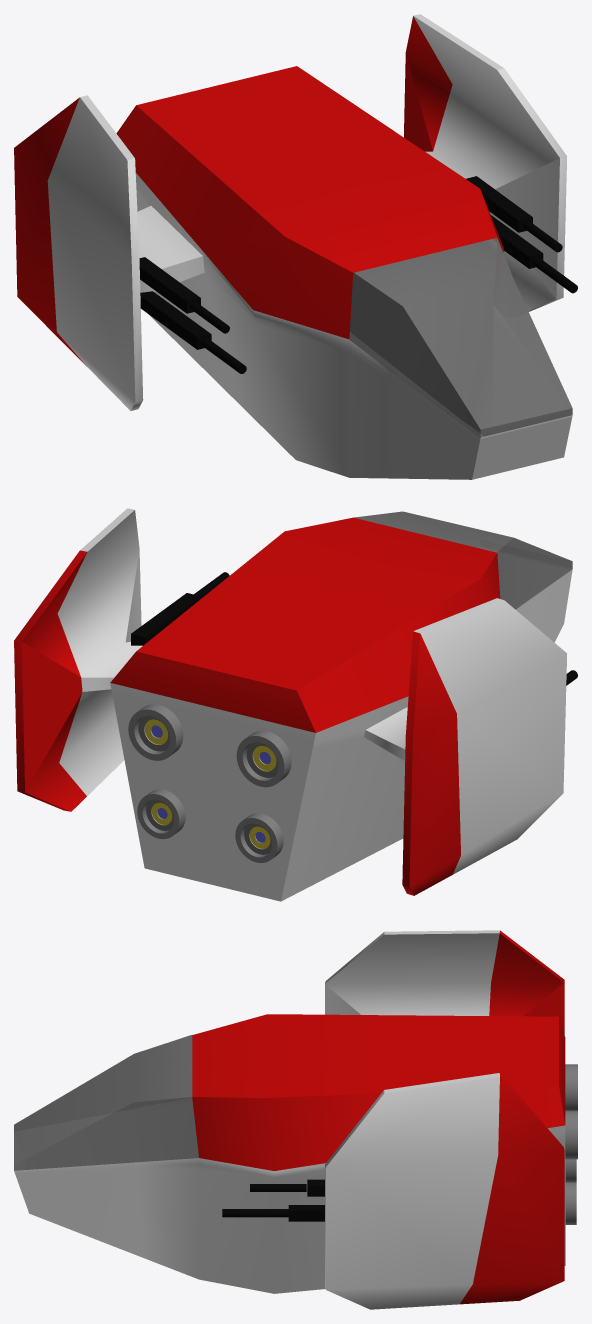
File: Low_Poly_EnemeyShip2.fbx
The picture shows the model from 3 angles, top to bottom: view 1: azimuth 30°, elevation 25°; view 2: azimuth 150°, elevation 25°; view 3: azimuth 270°, elevation 25°; orthographic projection. The views are drawn at different scales.
Parts seen in each view (by area): view 1: Ship; view 2: Ship; view 3: Ship.
Boxes of the visible parts, x1,y1,x2,y2 form: Ship: [14, 14, 577, 479]; Ship: [14, 508, 577, 901]; Ship: [14, 930, 577, 1309].
Bounding box in the file's own units: 5.44 × 3.47 × 6.95.
